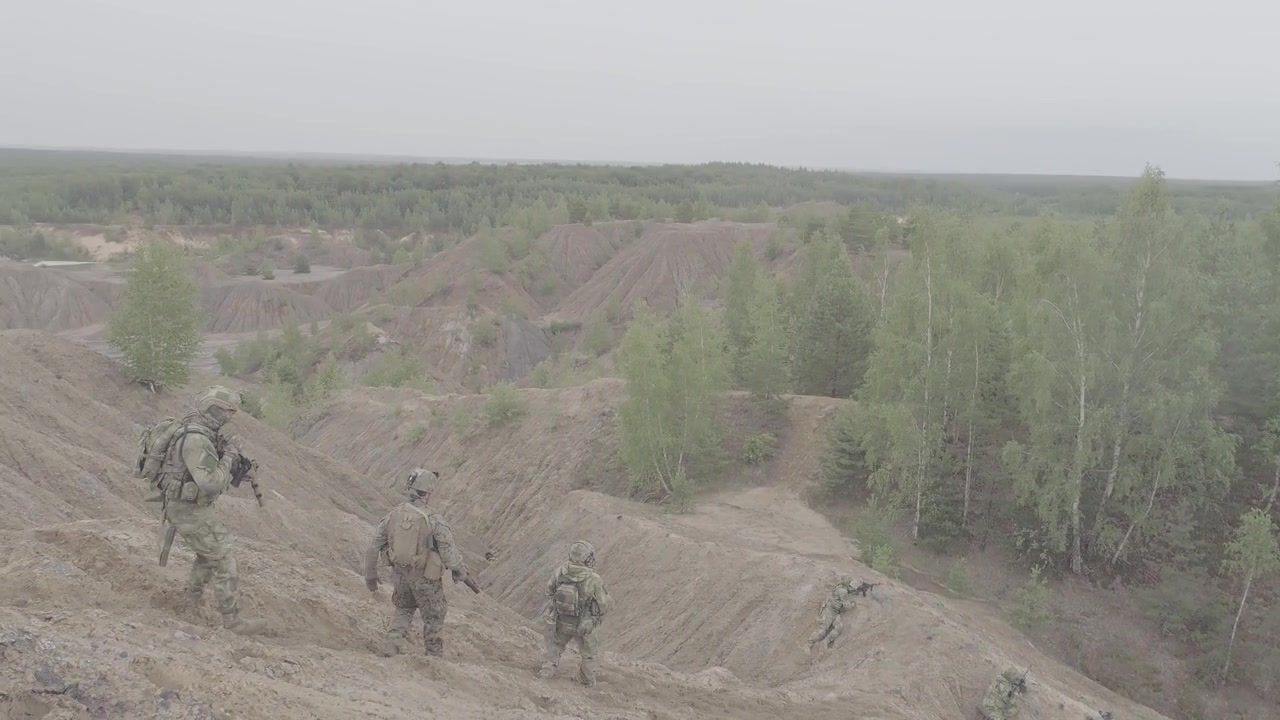person: (147, 389, 264, 634), (554, 545, 623, 688)
